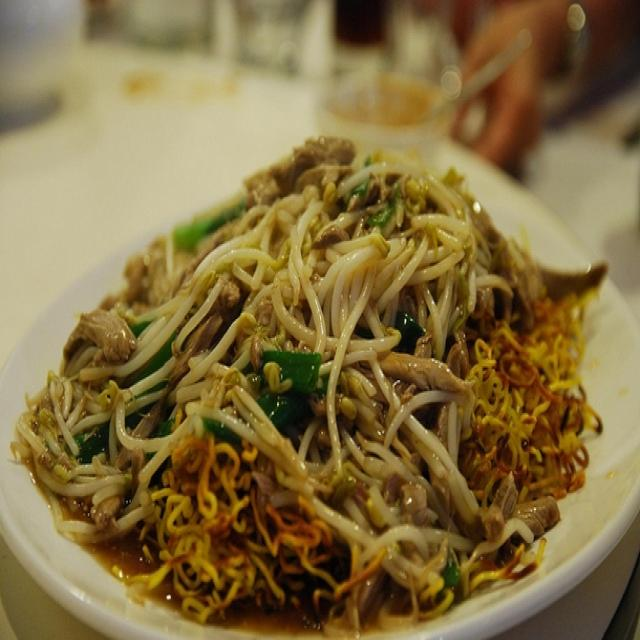面条主食: (20, 138, 621, 615)
